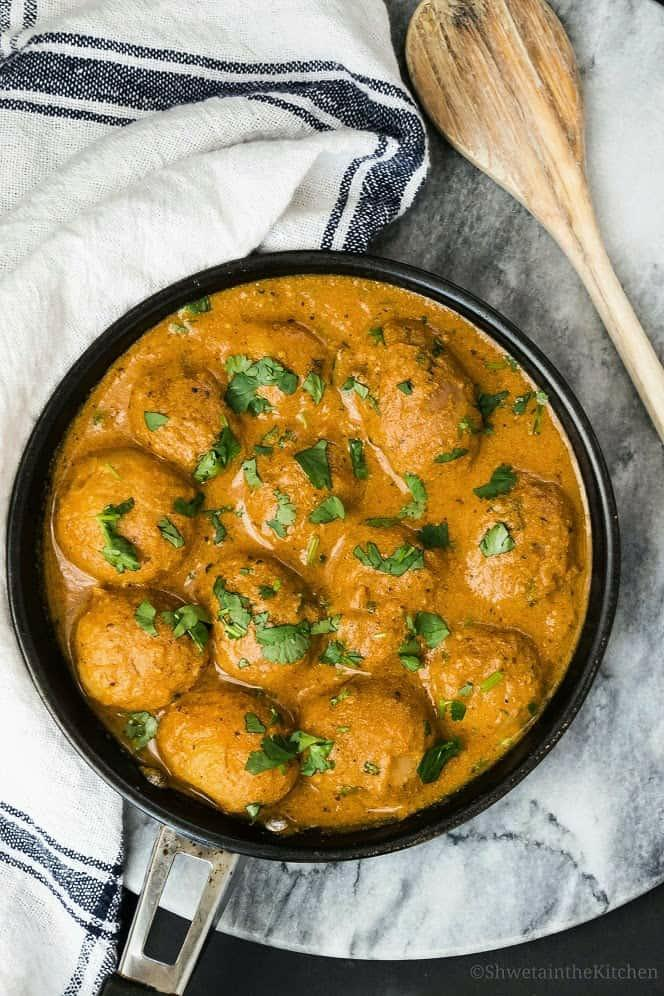DumAloo: (39, 270, 595, 830)
